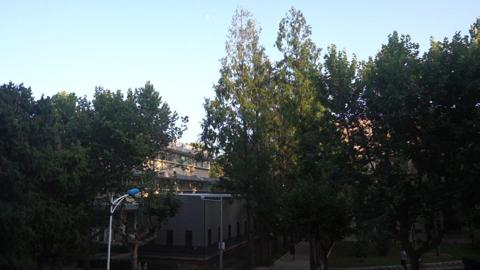UAV: (226, 121, 235, 125)
